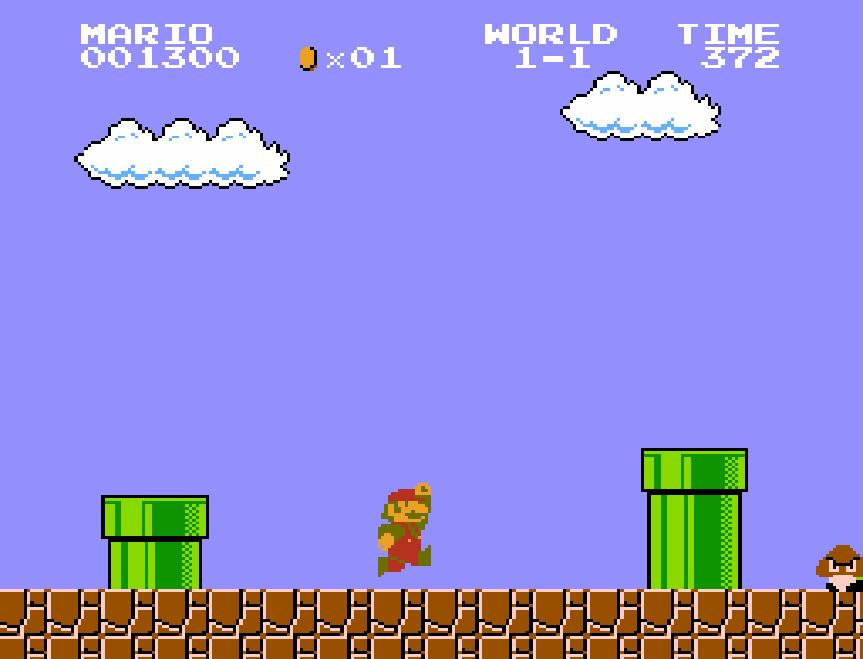big_mario: (376, 482, 434, 580)
